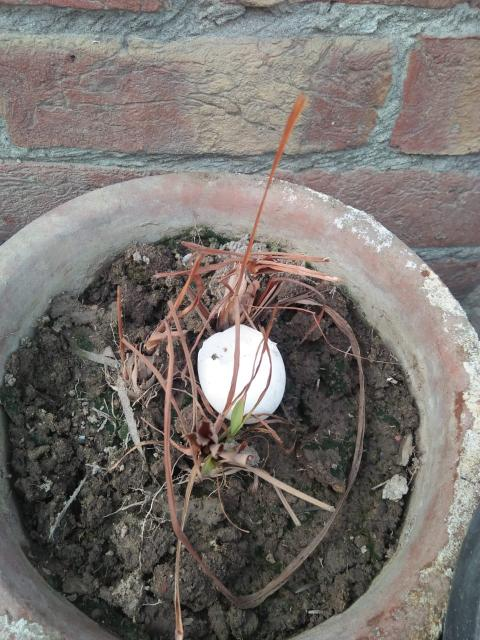Roto: (196, 323, 286, 422)
